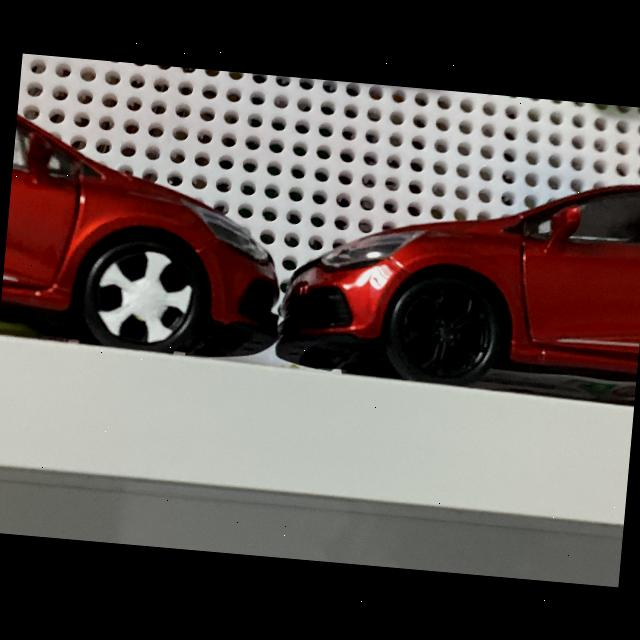Dogru_Jant: (402, 286, 487, 378)
Yanlis_Jant: (91, 245, 196, 348)
